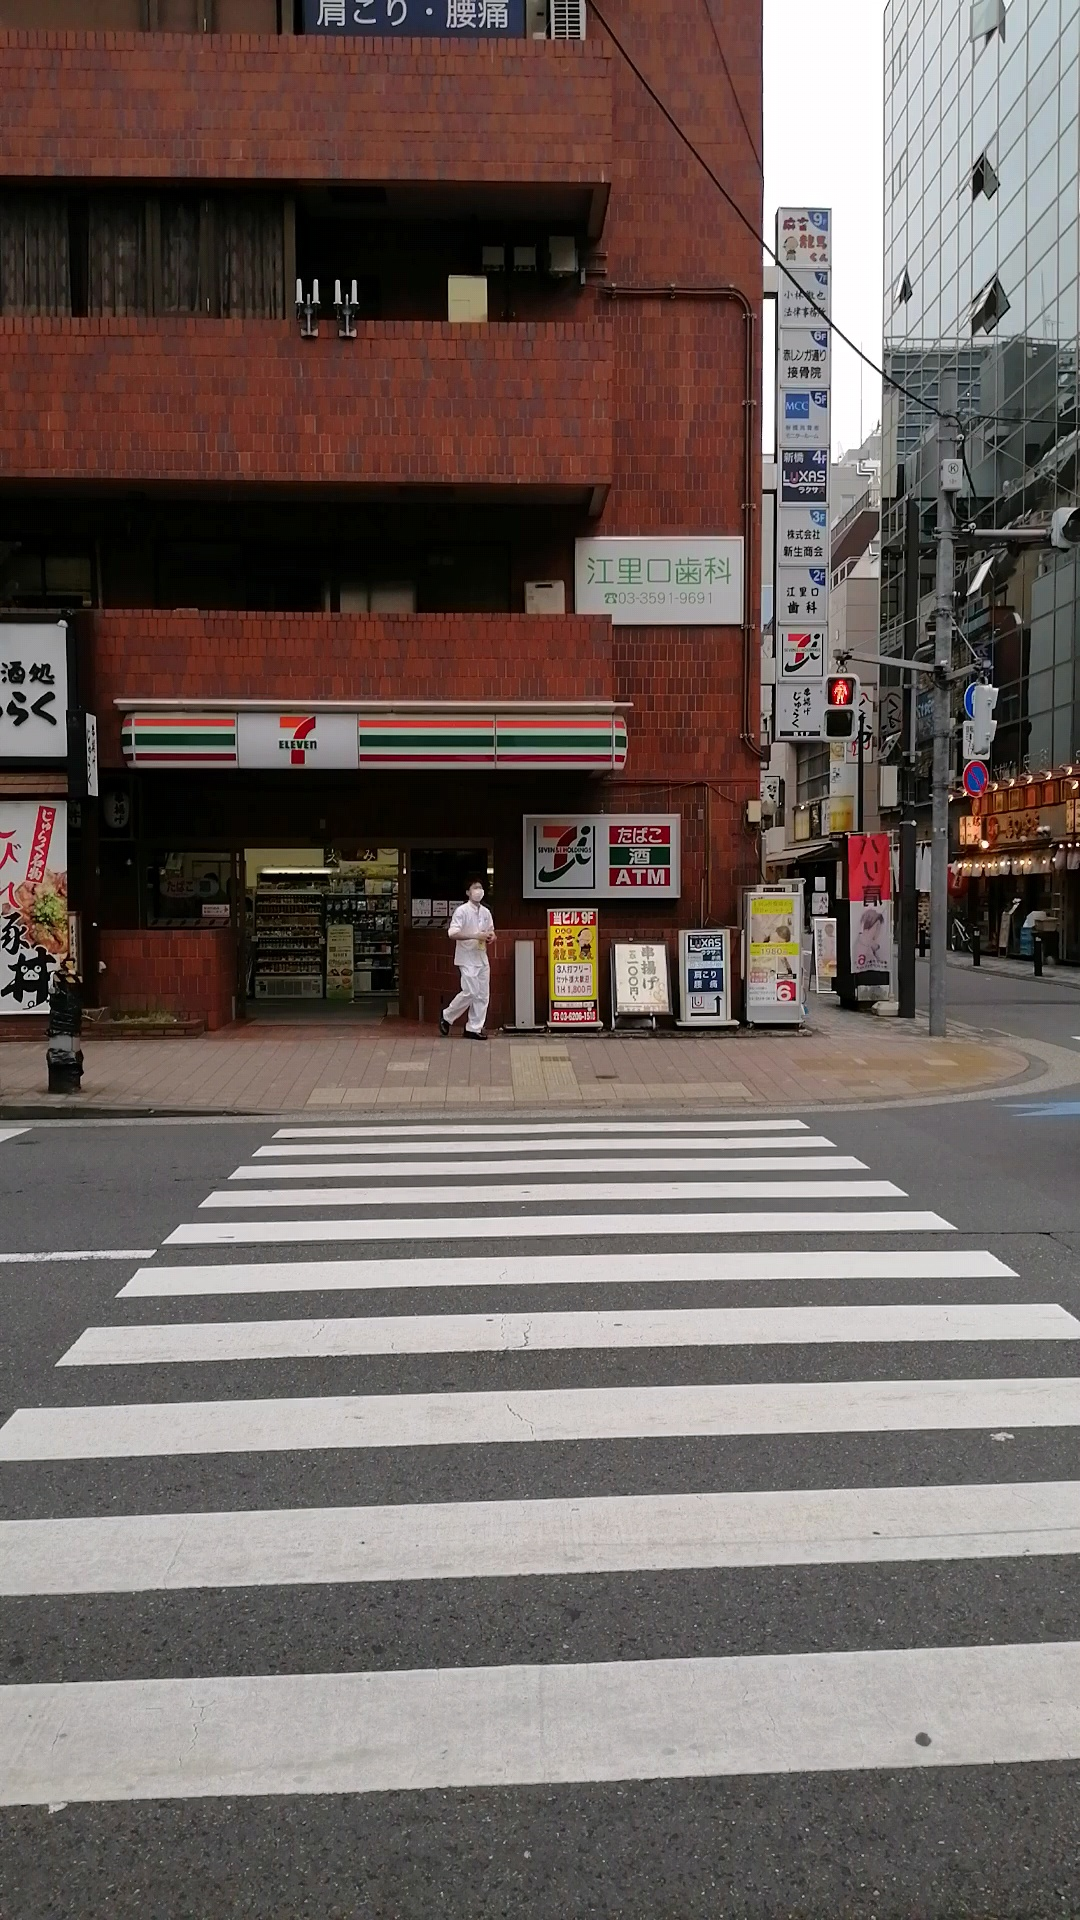red: (823, 670, 858, 742)
